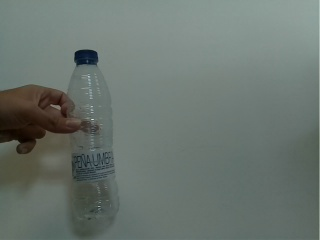botella plastico: (63, 48, 123, 221)
